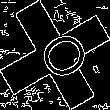O_SW: (22, 24, 88, 86)
